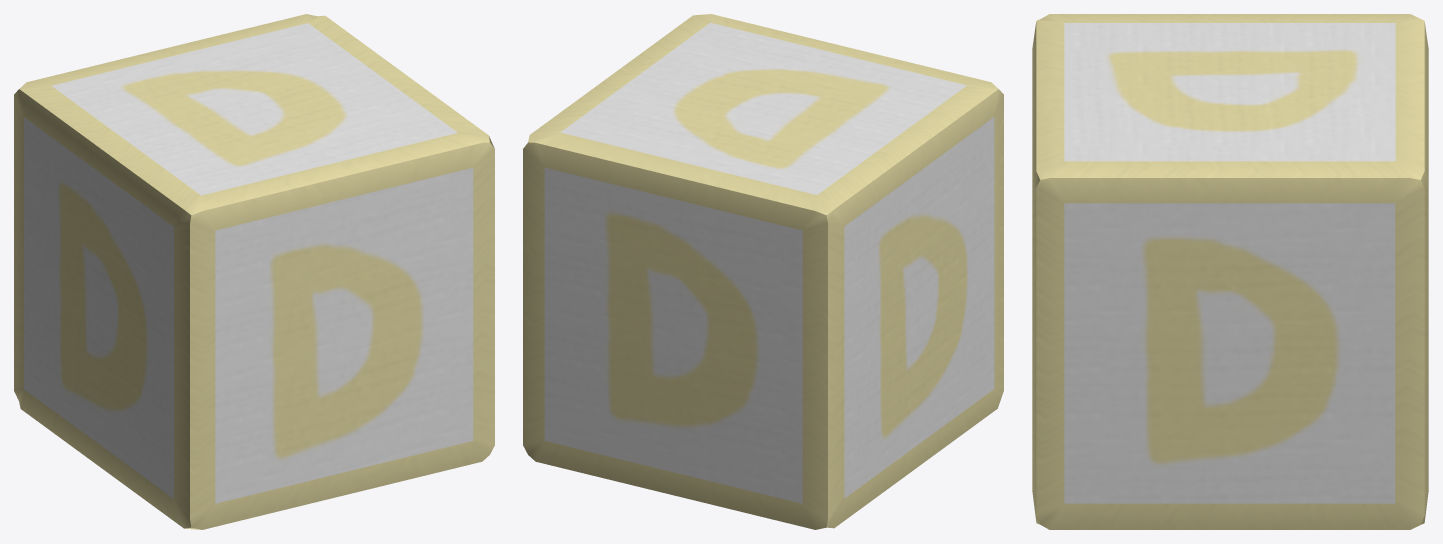
The model's file is BlockD.fbx.
3 views of the same model, side by side, from view 1: azimuth 30°, elevation 25°; view 2: azimuth 150°, elevation 25°; view 3: azimuth 270°, elevation 25° (orthographic). The views are drawn at different scales.
Parts seen in each view (by area): view 1: pCube1; view 2: pCube1; view 3: pCube1.
Boxes of the visible parts, x1,y1,x2,y2 form: pCube1: (14,14,494,529); pCube1: (523,14,1003,529); pCube1: (1032,14,1428,529).
Bounding box in the file's own units: 9 × 9 × 9.
